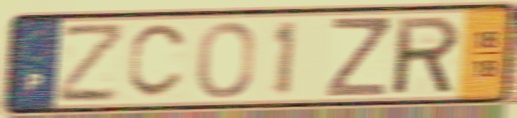1: (270, 17, 300, 100)
C: (125, 21, 192, 102)
O: (194, 19, 259, 101)
R: (393, 13, 463, 98)
Z: (56, 20, 128, 106), (323, 15, 392, 99)
